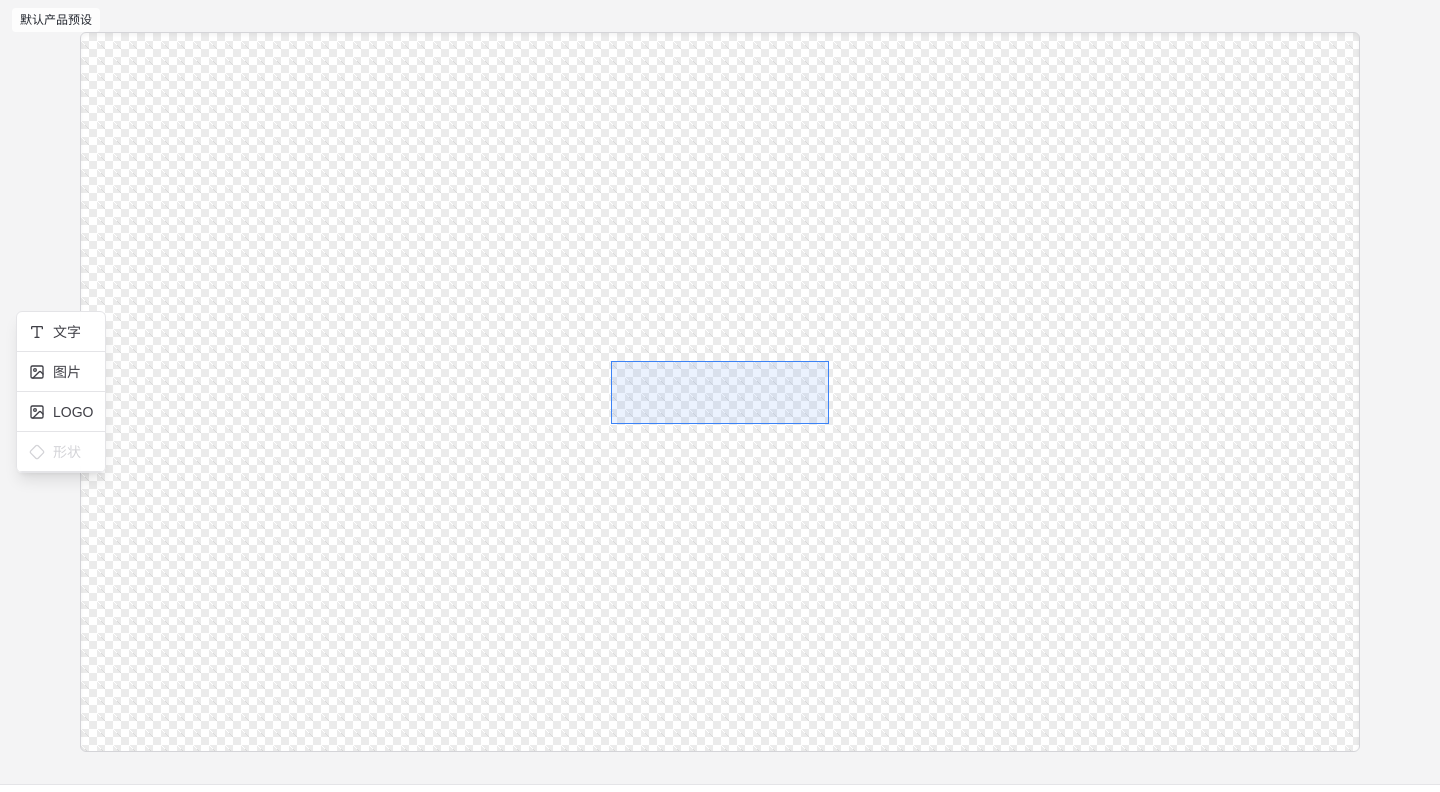
Test: PresetCanvasEditor › opens an in-place editor when a text layer is double-clicked
Double-click the button named "Text Layer": (720, 392) [611, 361, 829, 424]
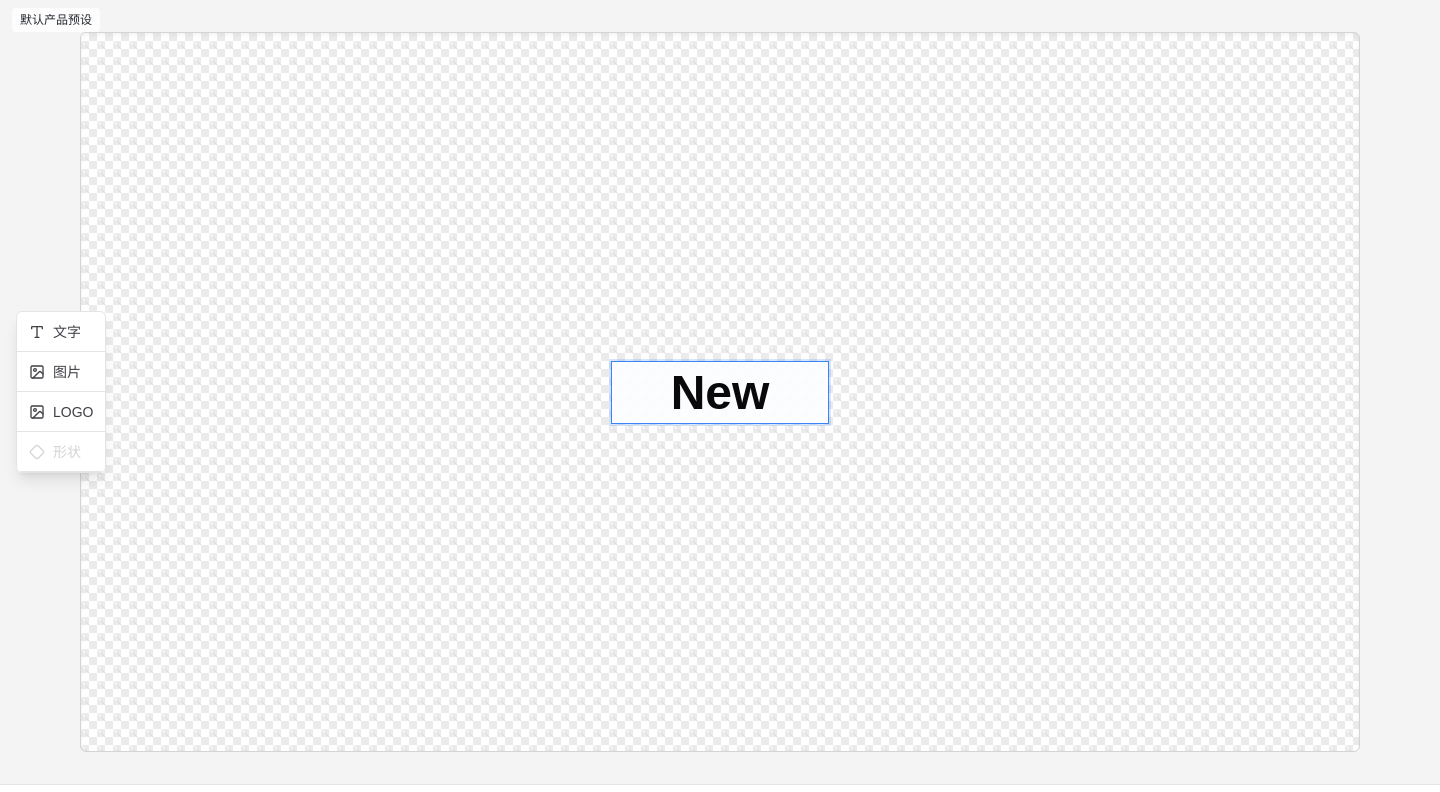
Check: the text box named "Edit text Text Layer" holds "New Text", box [611, 361, 829, 424]
